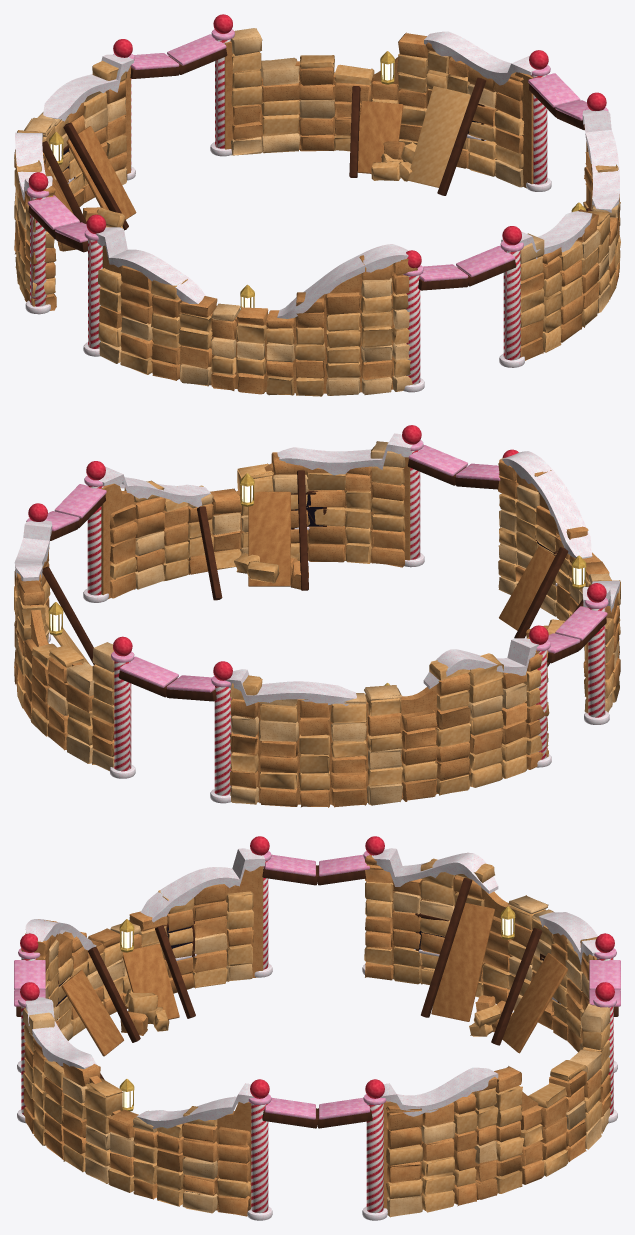
Rendered from CF_MonsterRoom.fbx.
The picture shows the model from 3 angles, top to bottom: view 1: azimuth 30°, elevation 25°; view 2: azimuth 150°, elevation 25°; view 3: azimuth 270°, elevation 25°; orthographic projection.
Visible parts, largest first — view 1: CF_MonsterRoom; view 2: CF_MonsterRoom; view 3: CF_MonsterRoom.
Boxes of the visible parts, left/top/right/bottom form: CF_MonsterRoom: left=14, top=14, right=620, bottom=396; CF_MonsterRoom: left=14, top=425, right=620, bottom=807; CF_MonsterRoom: left=14, top=836, right=620, bottom=1220.
Size of the model in its own units: 25.8 by 6.68 by 25.8.
